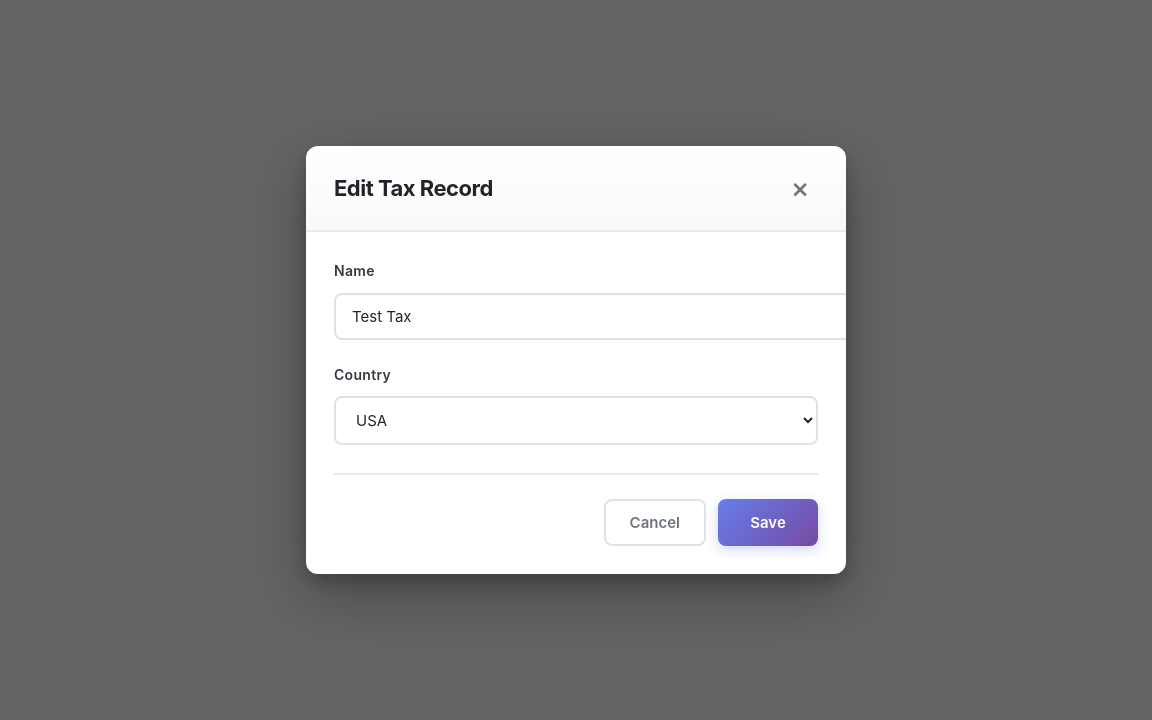
it: EditModal Unit Tests › should disable save button when name is empty
This screenshot has width=1152, height=720.
Expected: the button "Save" is enabled, [718,499,818,546]
Clear the name input
Clear the field named "Tax name": (594, 316) [334,292,854,340]
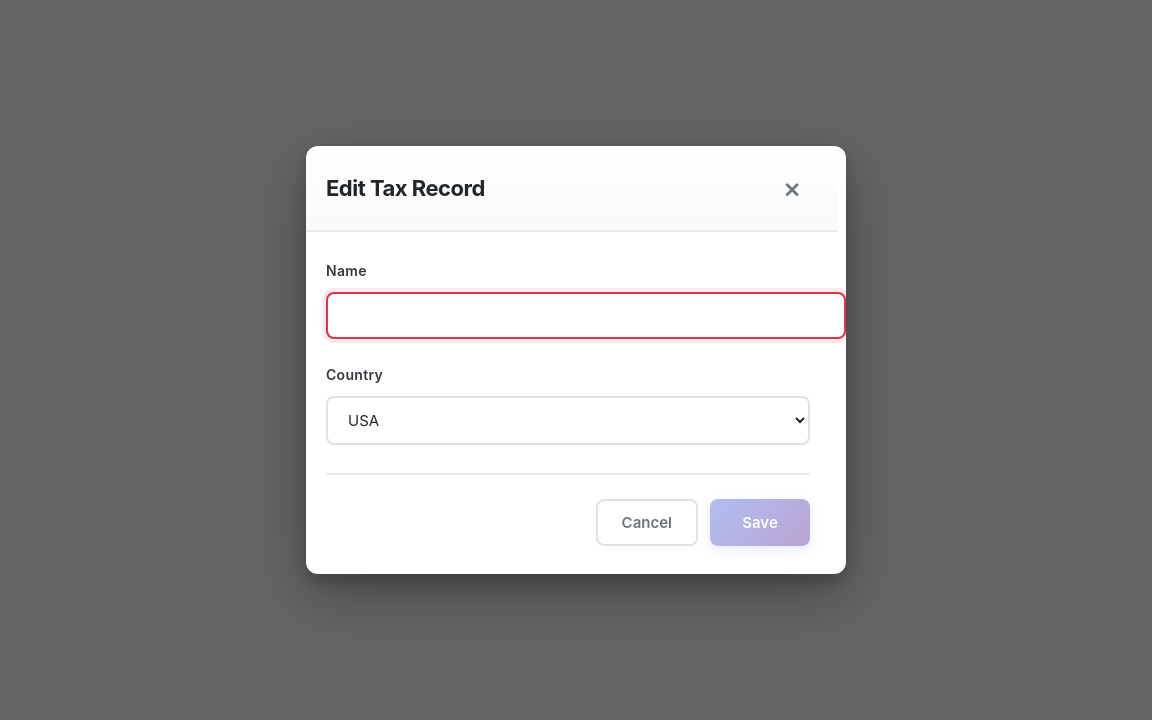
Expected: the button "Save" is disabled, [710,499,810,546]
